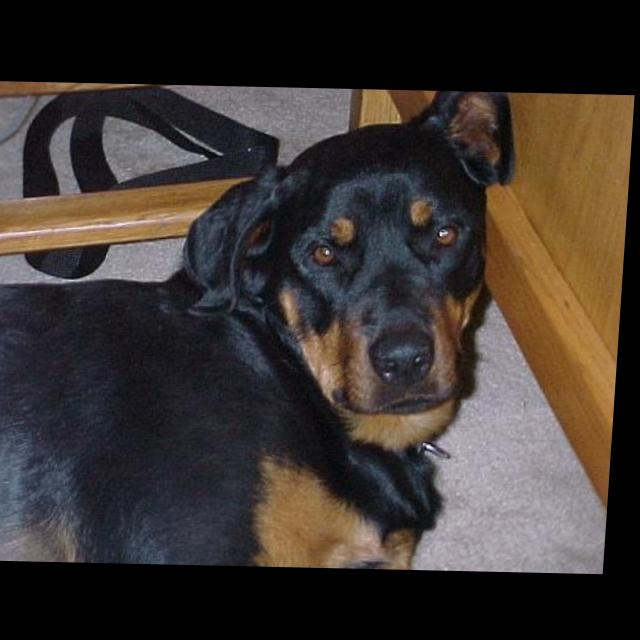rottweiler: (1, 82, 522, 570)
